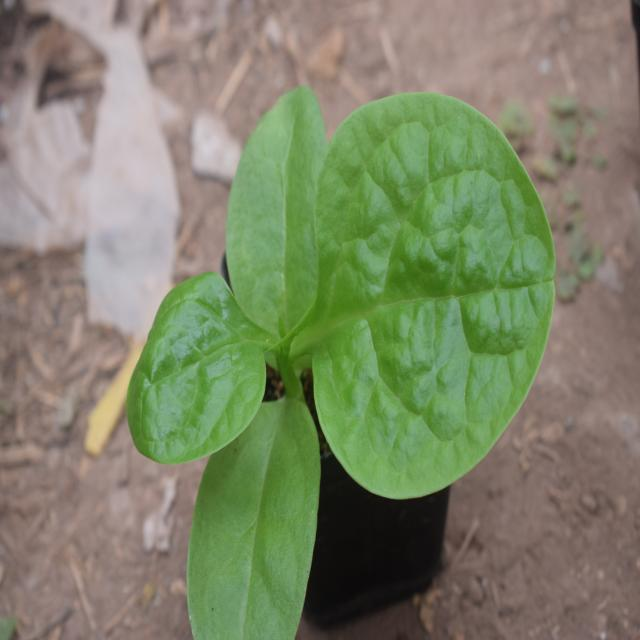Ceylon spinach: (134, 77, 537, 557)
